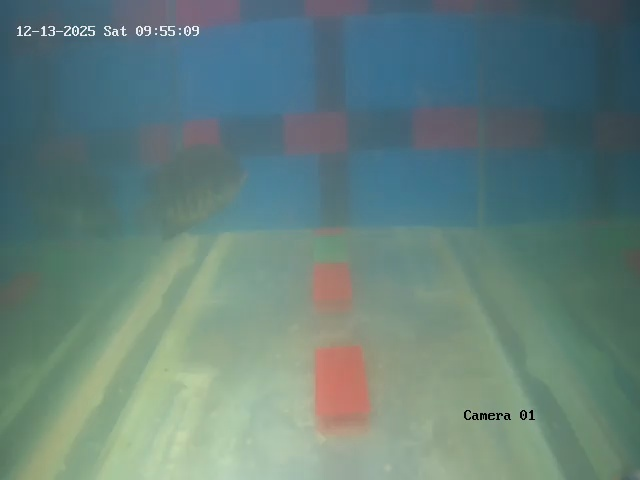fish: (137, 135, 244, 252)
